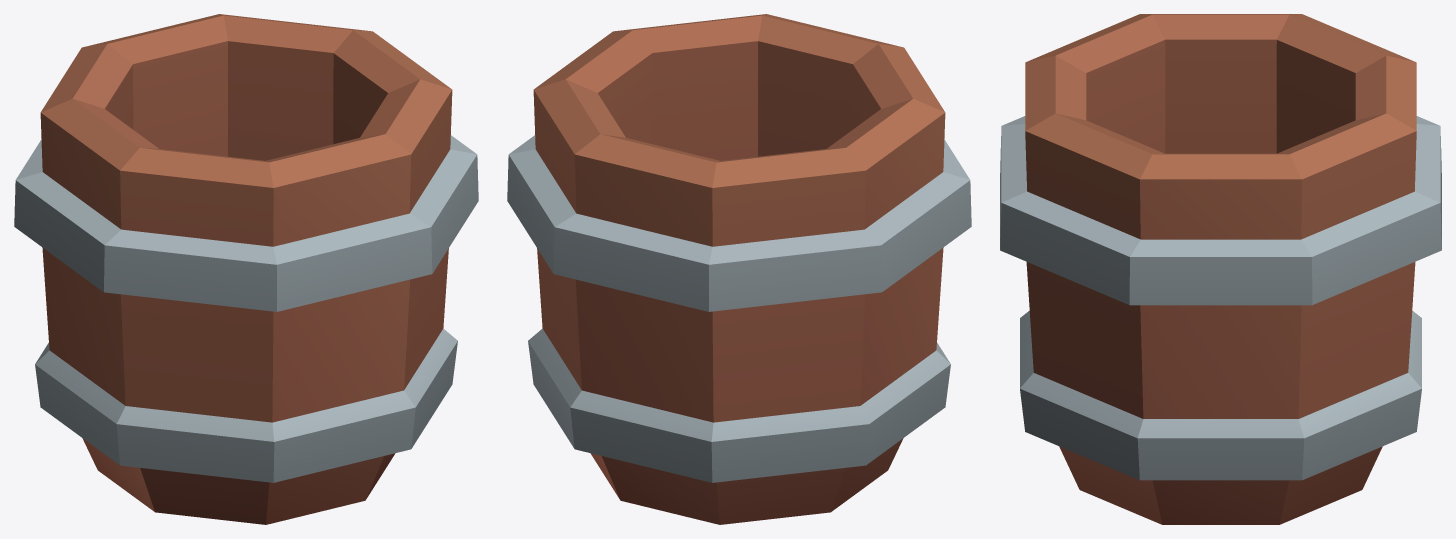
Rendered from bucket.glb.
The picture shows the model from 3 angles, left to right: view 1: azimuth 30°, elevation 25°; view 2: azimuth 150°, elevation 25°; view 3: azimuth 270°, elevation 25°; orthographic projection. The views are drawn at different scales.
Parts seen in each view (by area): view 1: bucket; view 2: bucket; view 3: bucket.
Part boxes in pixels (x1,y1,x2,y2): bucket: [14, 14, 478, 524]; bucket: [507, 14, 971, 524]; bucket: [1000, 14, 1441, 524].
Bounding box in the file's own units: 0.9765 × 0.9288 × 0.9765.
1 material, 1 textured.
